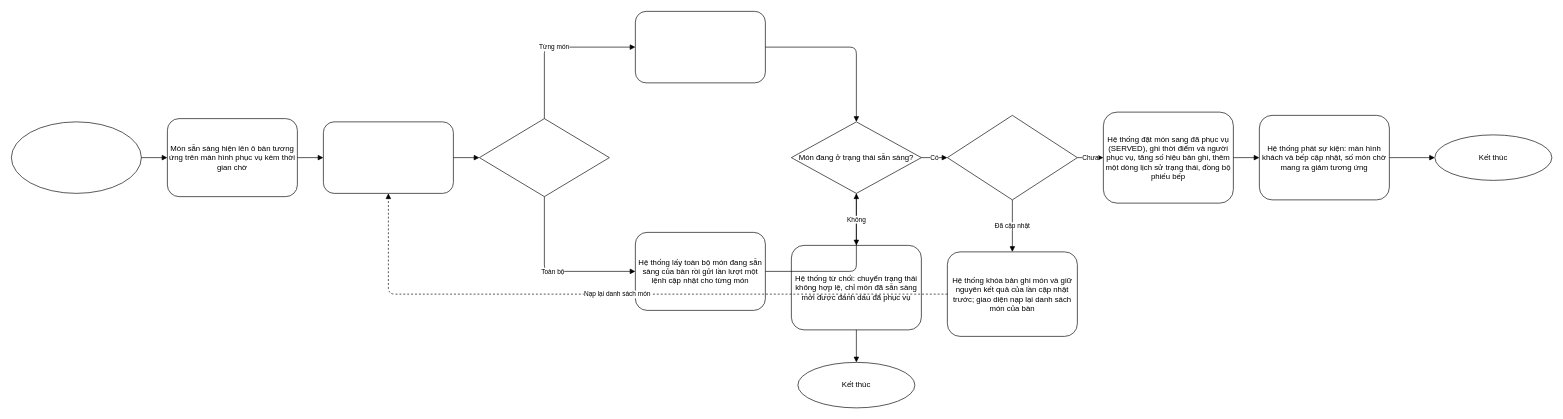
The diagram is 1563 pixels wide and 419 high, and some of its shapes have lost their labels. Each missing label, with the box of its shape:
Bếp cập nhật món sang trạng thái sẵn sàng (READY): (11, 121, 141, 193)
Món đã được người khác cập nhật trước đó?: (947, 115, 1077, 200)
Phục vụ chọn đúng món vừa mang ra bàn: (635, 11, 765, 83)
Phục vụ mang món ra bàn và mở bảng chi tiết bàn: (323, 121, 453, 193)
Đánh dấu từng món hay toàn bộ món sẵn sàng?: (479, 118, 609, 197)
